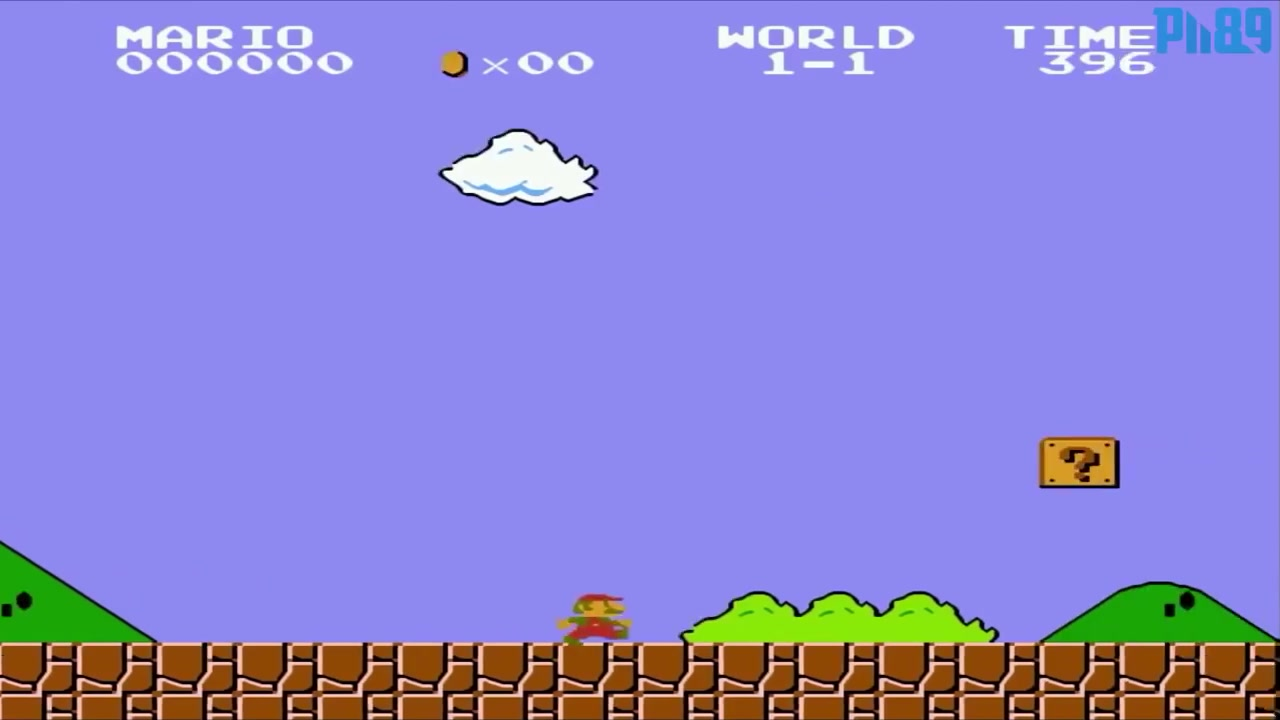mario: (546, 587, 640, 649)
